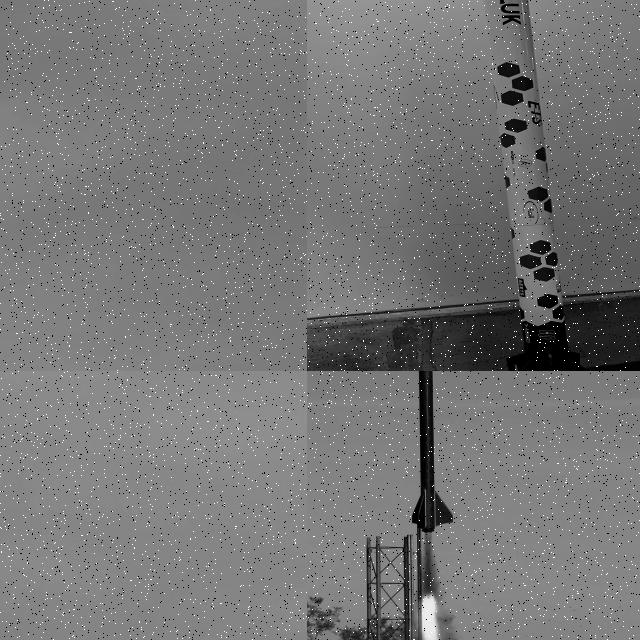Rocket: (483, 0, 592, 371), (410, 371, 455, 533)
